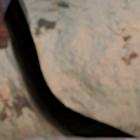brick: (0, 0, 7, 48), (19, 135, 79, 139)
crack: (2, 0, 138, 139)
